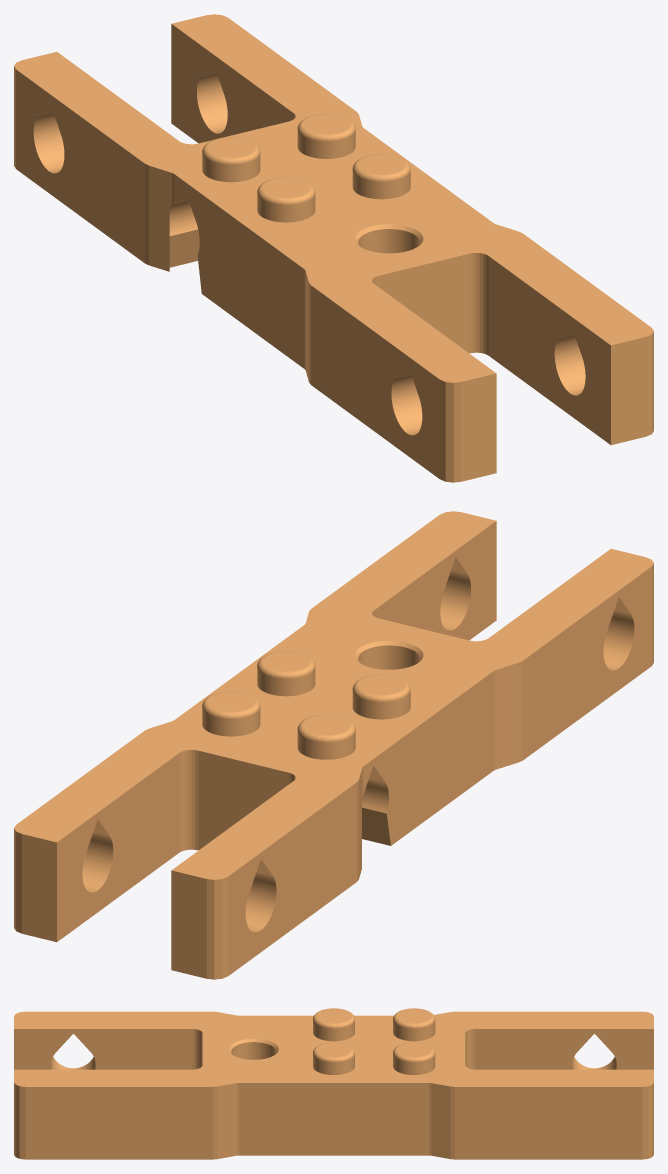
The model's file is kit-clevis-spine.glb.
The picture shows the model from 3 angles, top to bottom: view 1: azimuth 30°, elevation 25°; view 2: azimuth 150°, elevation 25°; view 3: azimuth 270°, elevation 25°; orthographic projection. The views are drawn at different scales.
Parts seen in each view (by area): view 1: kit-clevis-spine; view 2: kit-clevis-spine; view 3: kit-clevis-spine.
Boxes of the visible parts, x1=… form: kit-clevis-spine: x1=14, y1=14, x2=653, y2=482; kit-clevis-spine: x1=14, y1=511, x2=653, y2=979; kit-clevis-spine: x1=14, y1=1008, x2=653, y2=1159.
Size of the model in its own units: 0.0278 by 0.0153 by 0.0998.
